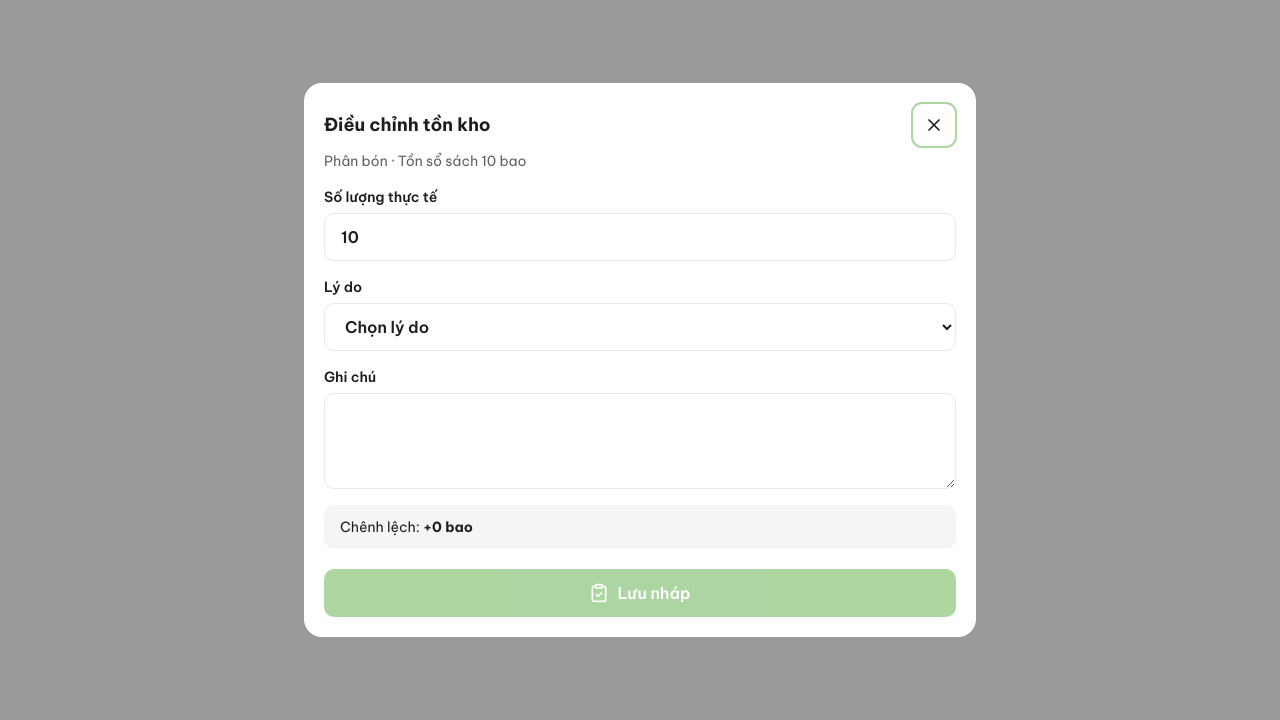
Test: AdjustSheet › shows the draft, completes it, and restores focus after Escape
Replace the text in the field labelled "Số lượng thực tế" with "9.5": (640, 237) [324,213,956,261]
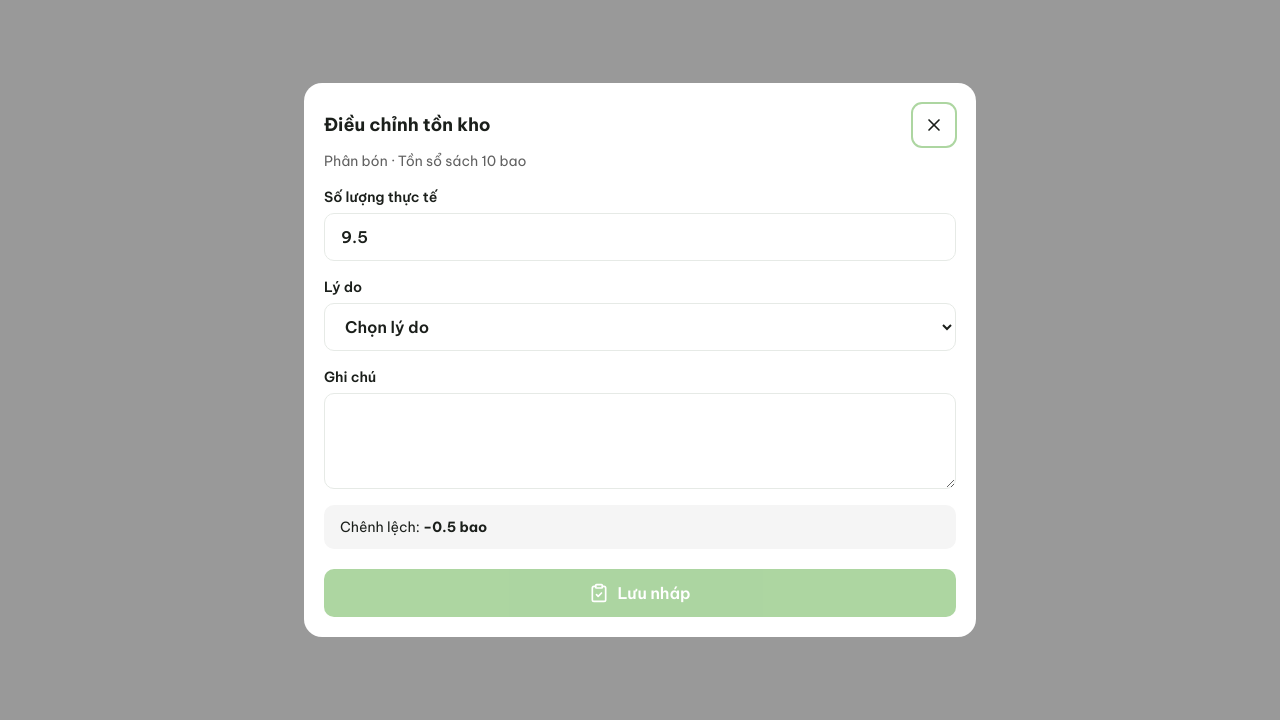
Select "Thất thoát" in the dropdown named "Lý do điều chỉnh": (640, 327) [324,303,956,351]
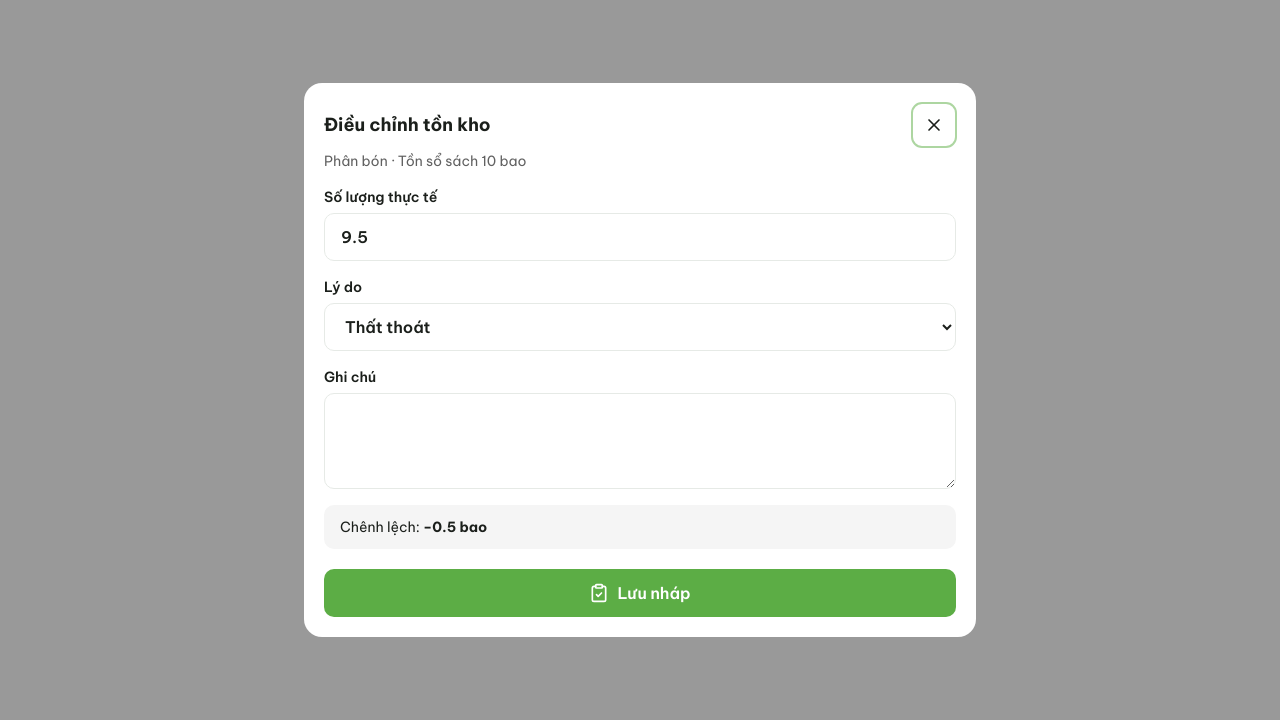
Click the button "Lưu nháp": (640, 593) [324,569,956,617]
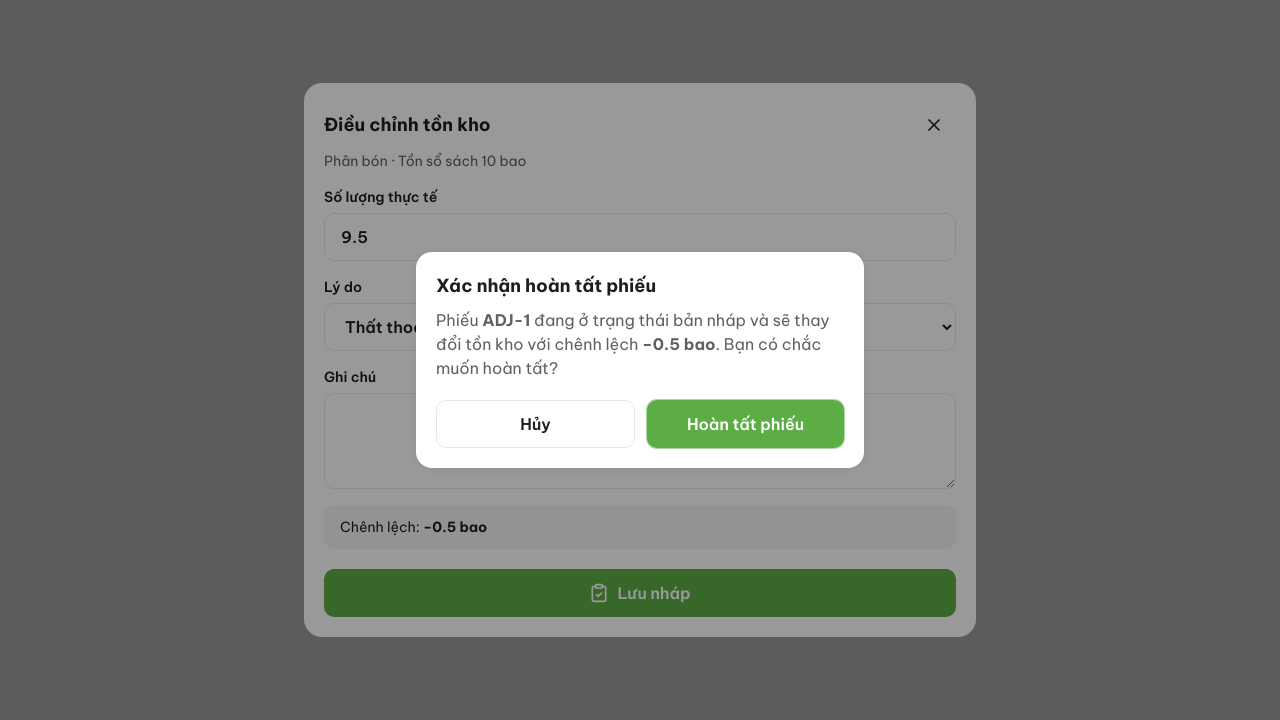
Check: the text "ADJ-1" is shown, box [482,310,530,330]
Press Escape
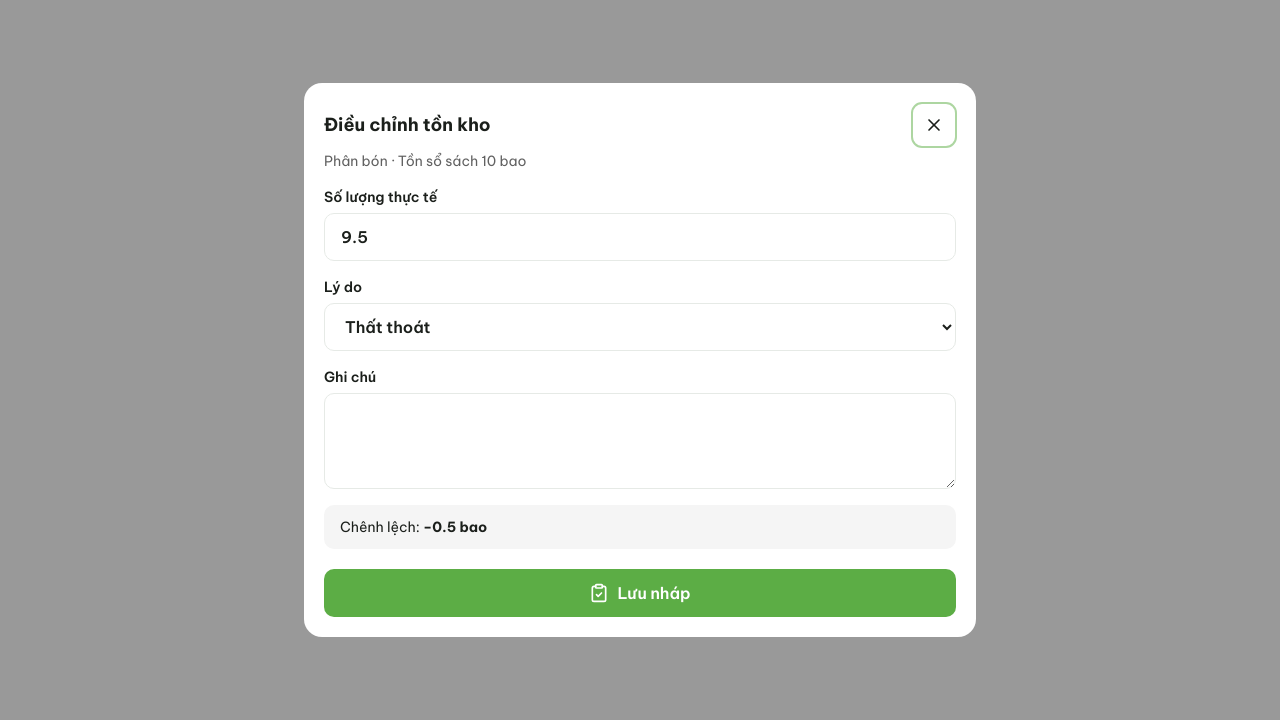
Check: the text "ADJ-1" is gone
